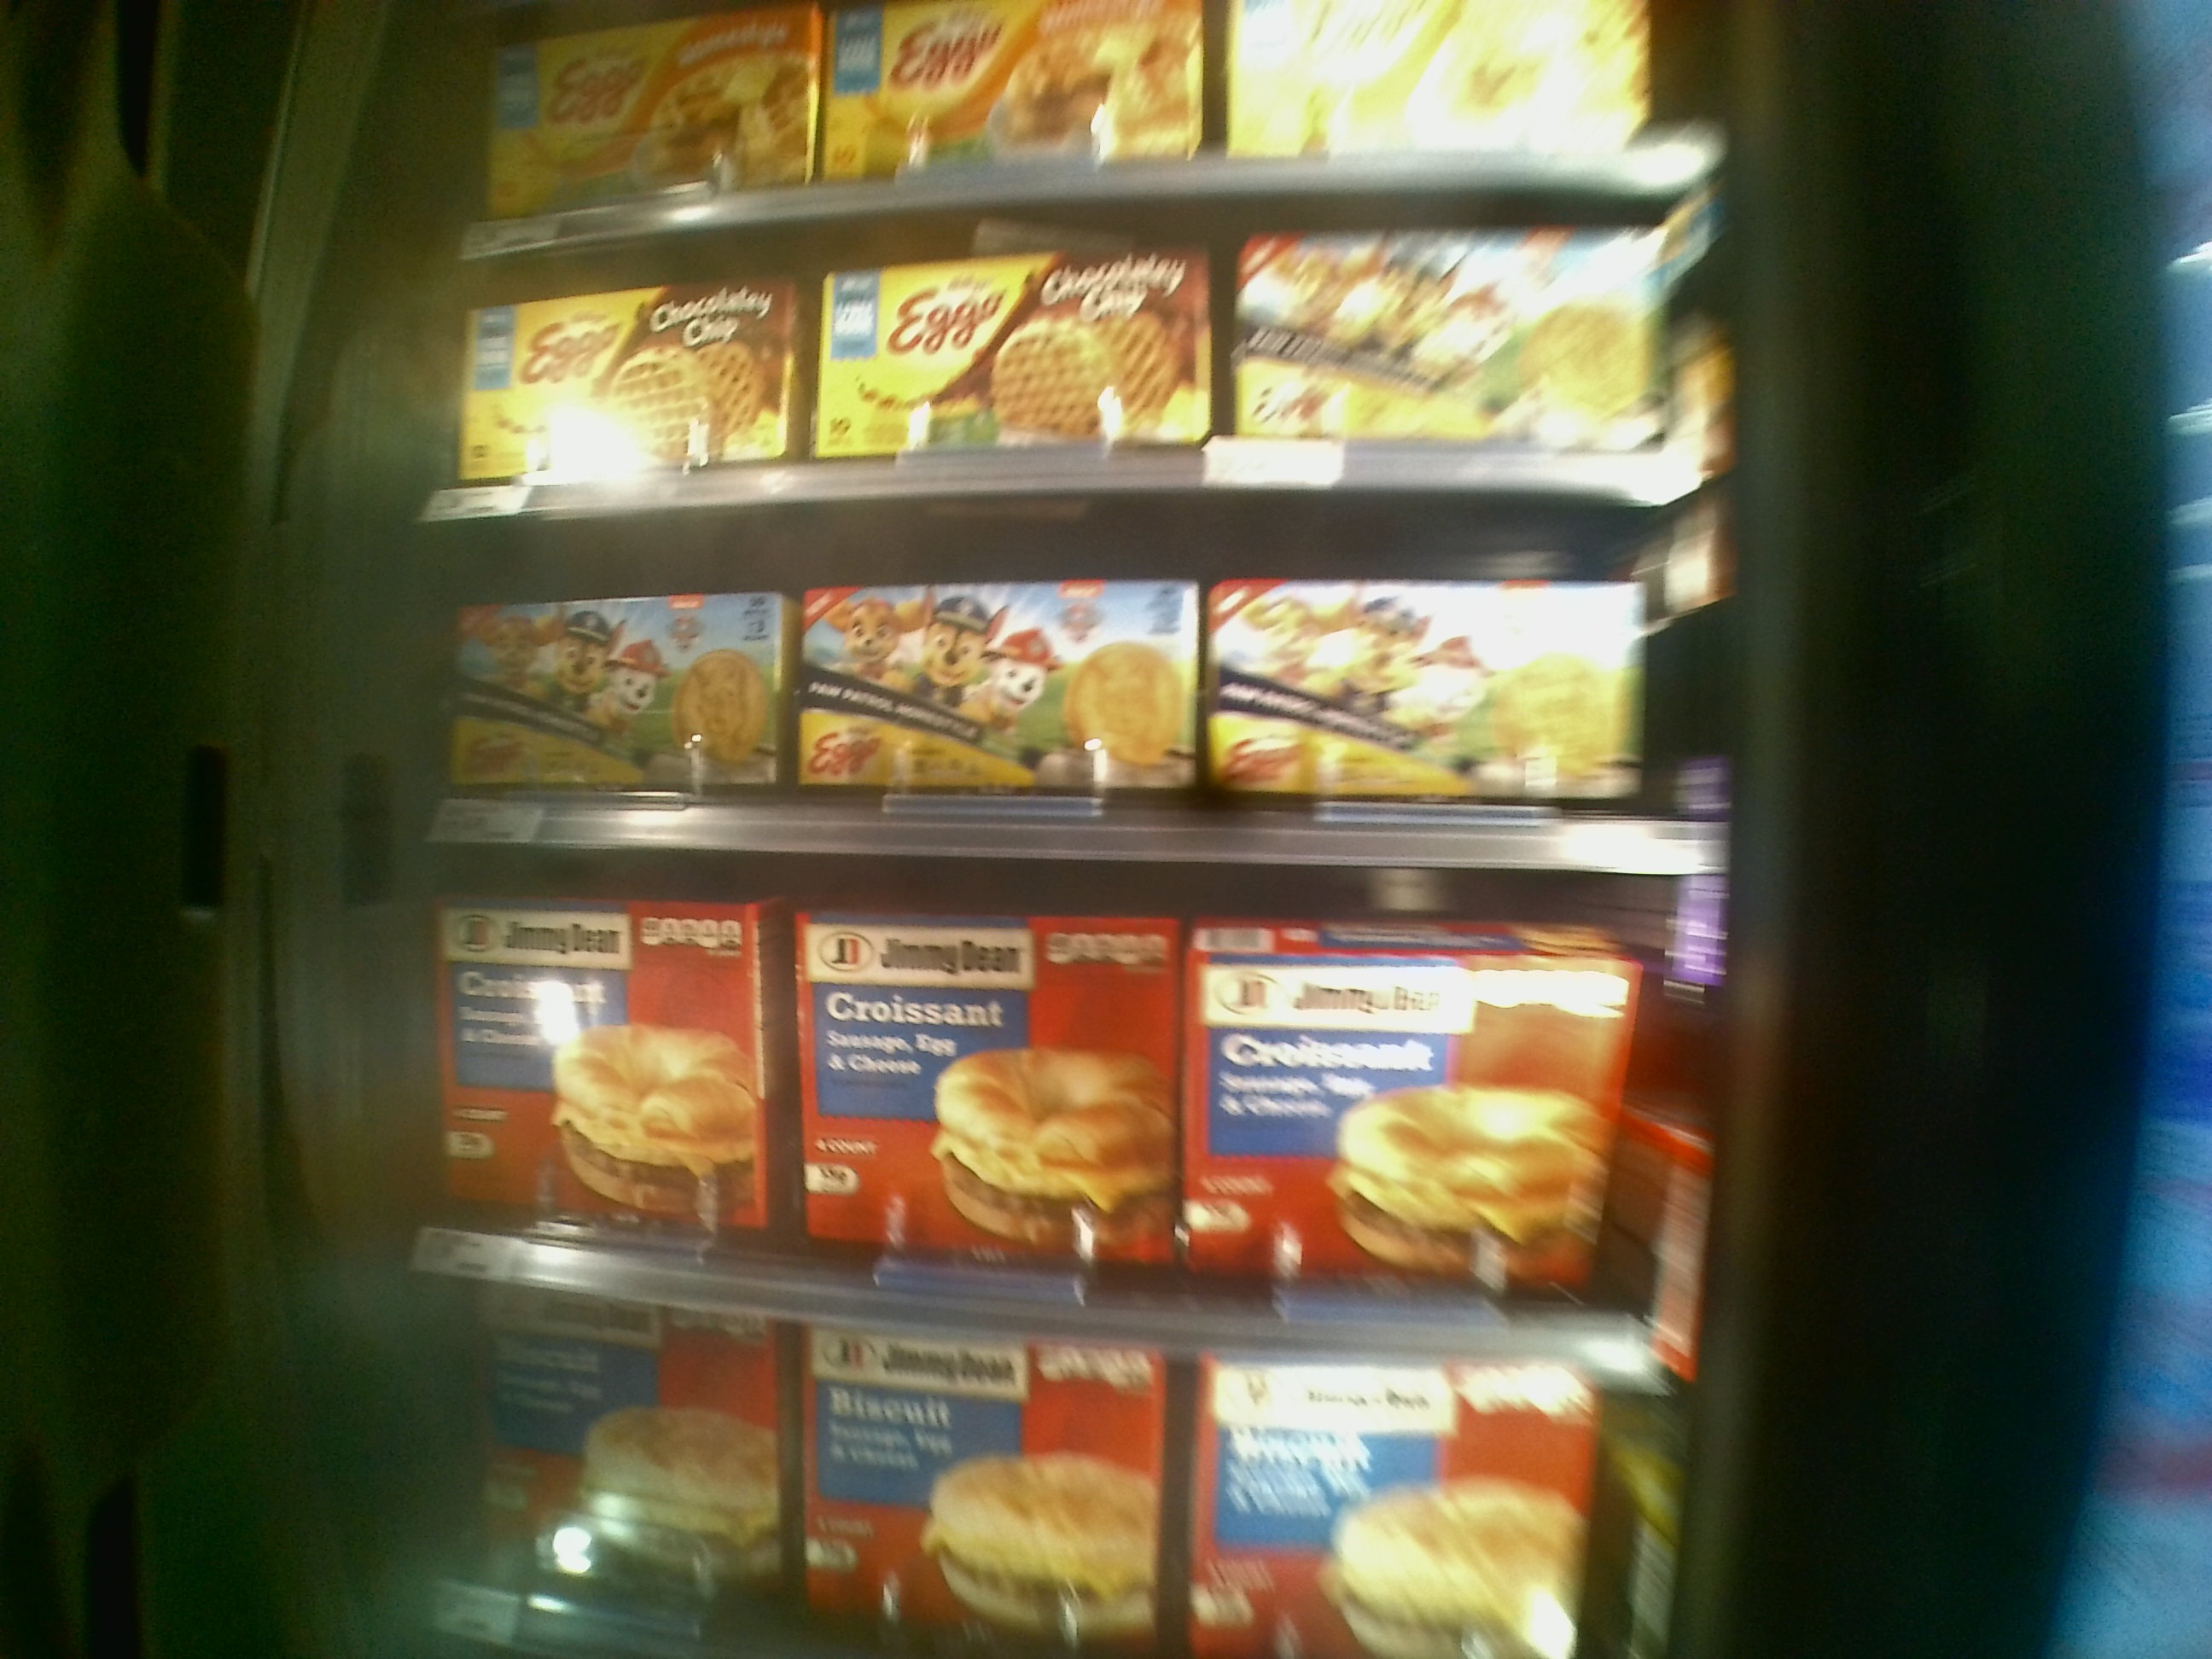shelf: (420, 863, 1709, 1356), (427, 477, 1730, 871), (427, 192, 1707, 505)
